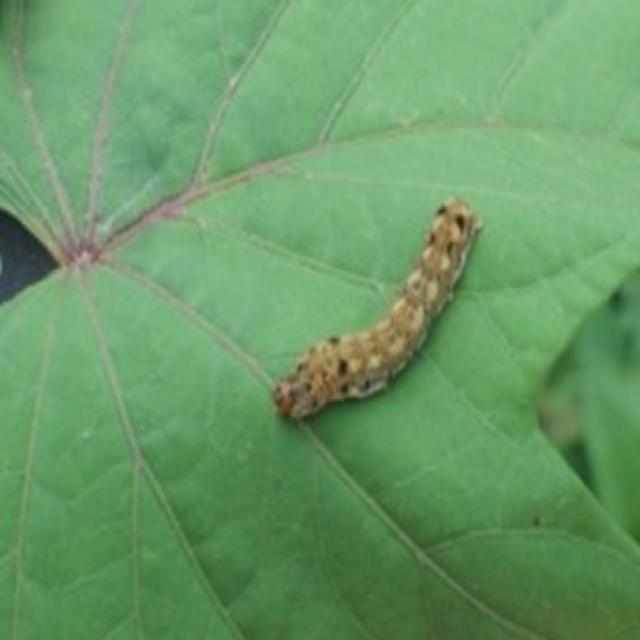armyworm: (270, 194, 483, 422)
